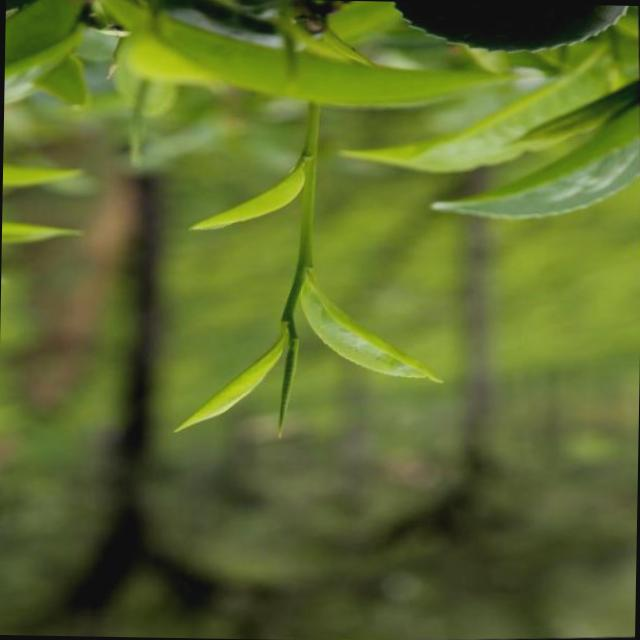Stem: (299, 238, 312, 267)
